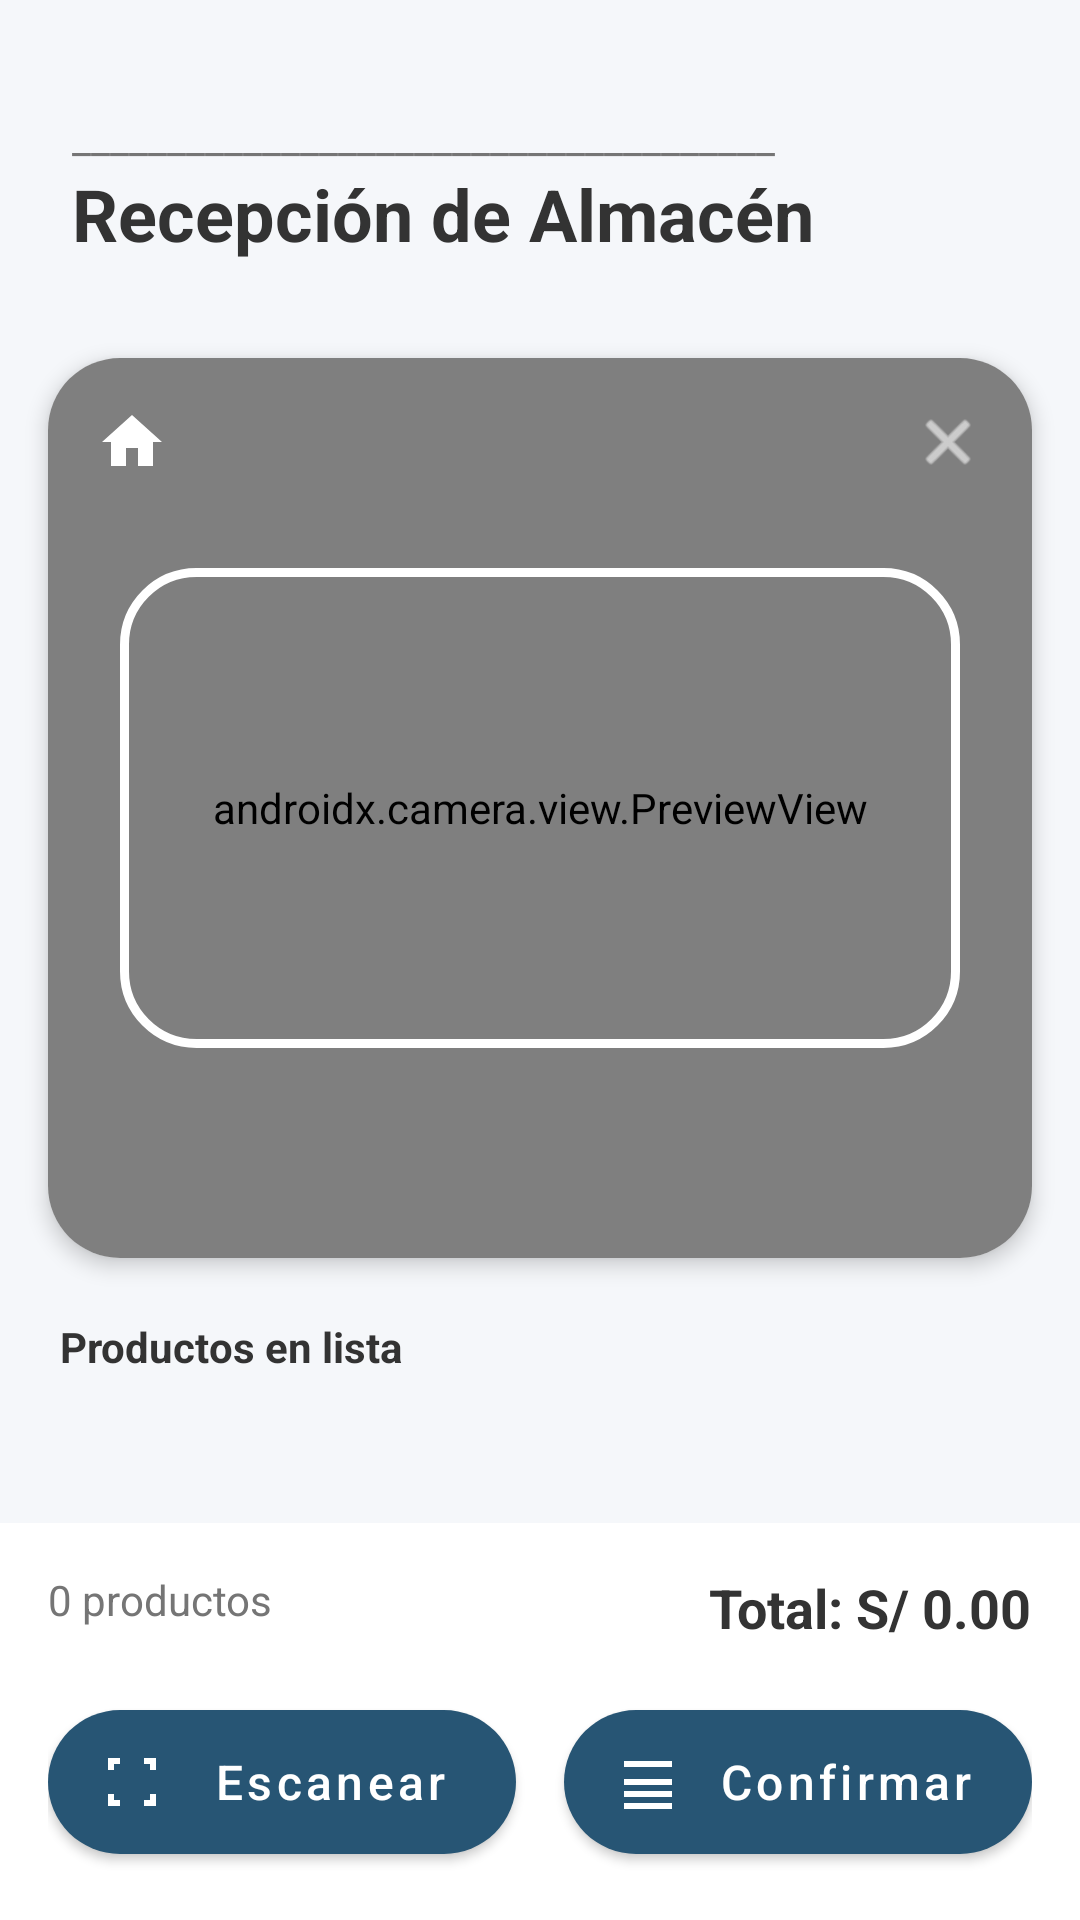

Icon click points for this 1080w x 1920h phone screenshot, format (x,y):
close clear cancel: (948,442)
home: (132,440)
